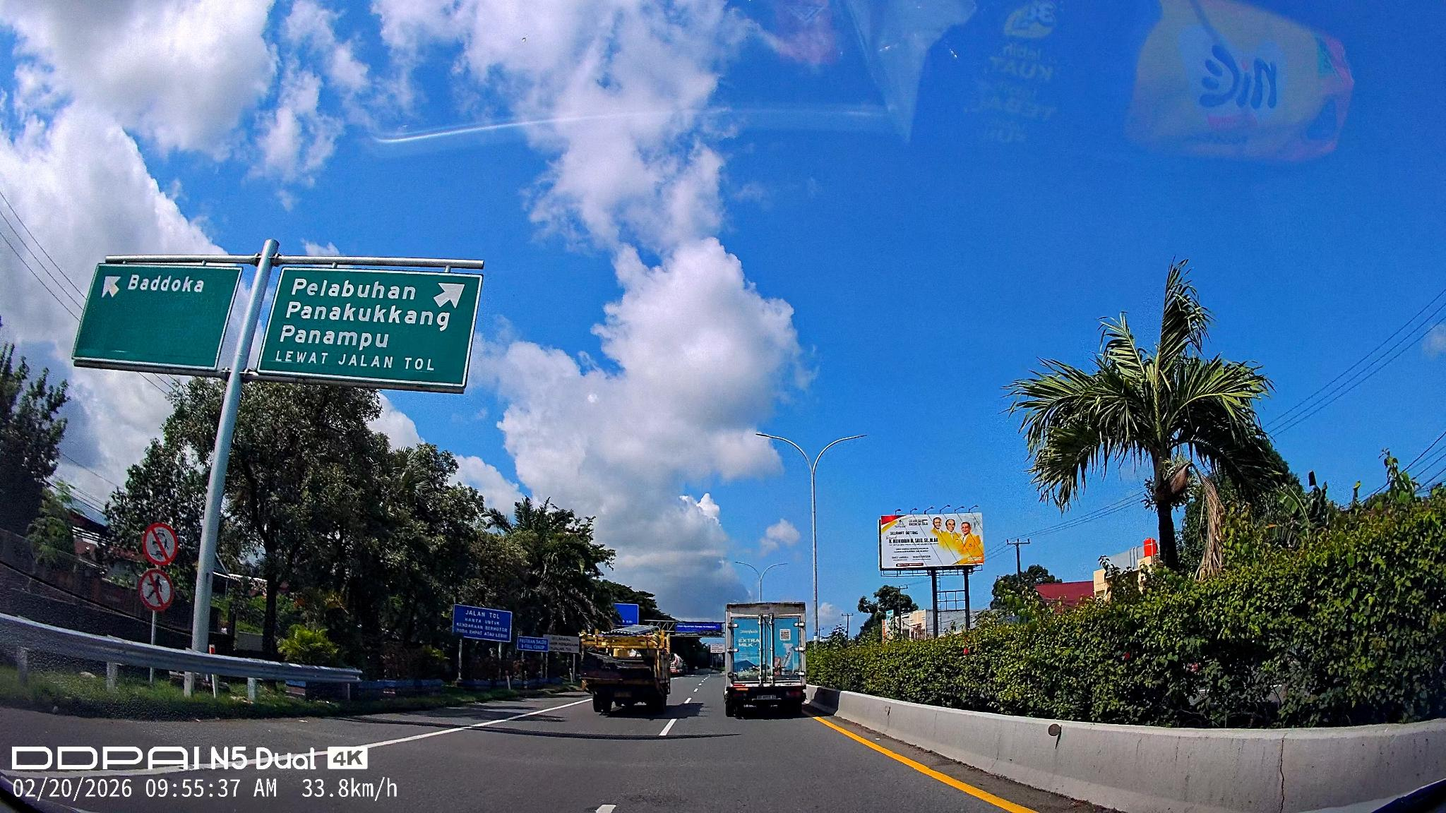rambu_teks: (255, 264, 485, 390), (71, 262, 245, 373)
